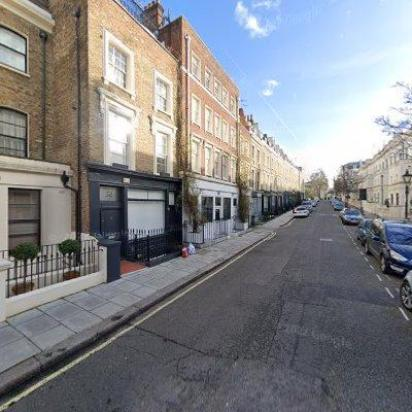stationary-car-onstreet: (363, 218, 411, 276), (398, 264, 412, 318), (356, 217, 376, 244), (341, 208, 363, 226), (301, 199, 315, 213), (293, 205, 309, 217), (333, 200, 347, 210), (339, 207, 350, 217), (308, 198, 316, 208)
